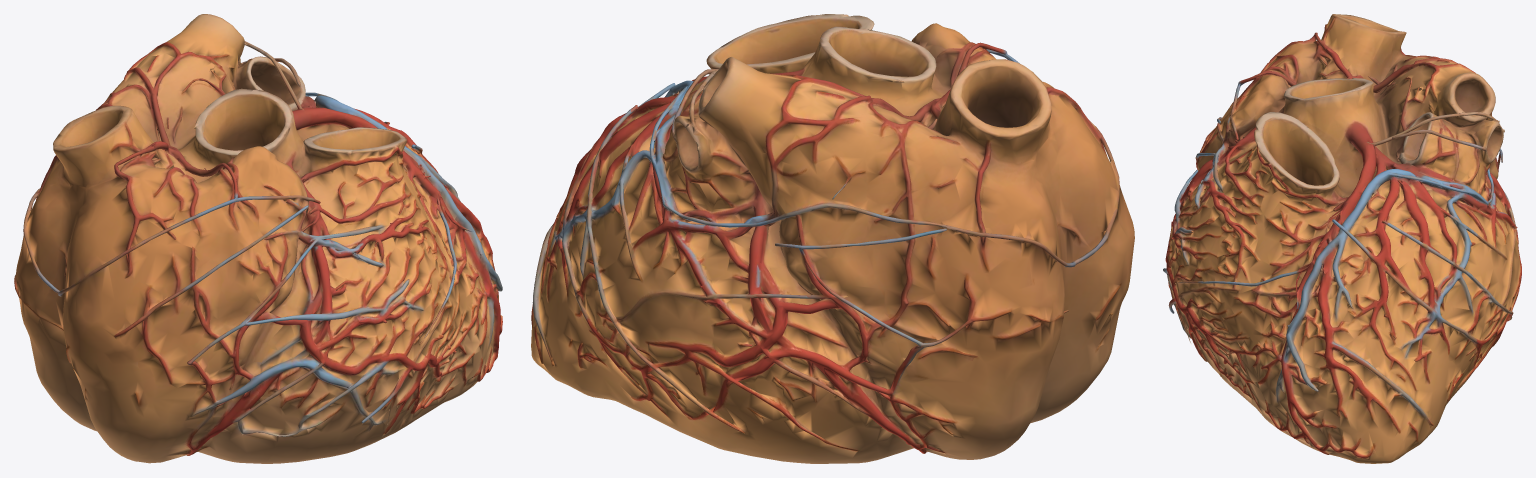
Rendered from coronary-arteries.glb.
3 views of the same model, side by side, from view 1: azimuth 30°, elevation 25°; view 2: azimuth 150°, elevation 25°; view 3: azimuth 270°, elevation 25° (orthographic). The views are drawn at different scales.
Parts seen in each view (by area): view 1: tripo_node_bc66ca72-a9b6-47c1-b554-9f1b6d2d7906; view 2: tripo_node_bc66ca72-a9b6-47c1-b554-9f1b6d2d7906; view 3: tripo_node_bc66ca72-a9b6-47c1-b554-9f1b6d2d7906.
Part boxes in pixels (box(x1,y1,x2,y2)): tripo_node_bc66ca72-a9b6-47c1-b554-9f1b6d2d7906: box(14, 14, 502, 463); tripo_node_bc66ca72-a9b6-47c1-b554-9f1b6d2d7906: box(531, 14, 1134, 463); tripo_node_bc66ca72-a9b6-47c1-b554-9f1b6d2d7906: box(1163, 14, 1521, 463).
Size of the model in its own units: 0.9996 by 0.7105 by 0.7698.
1 material, 1 textured.
